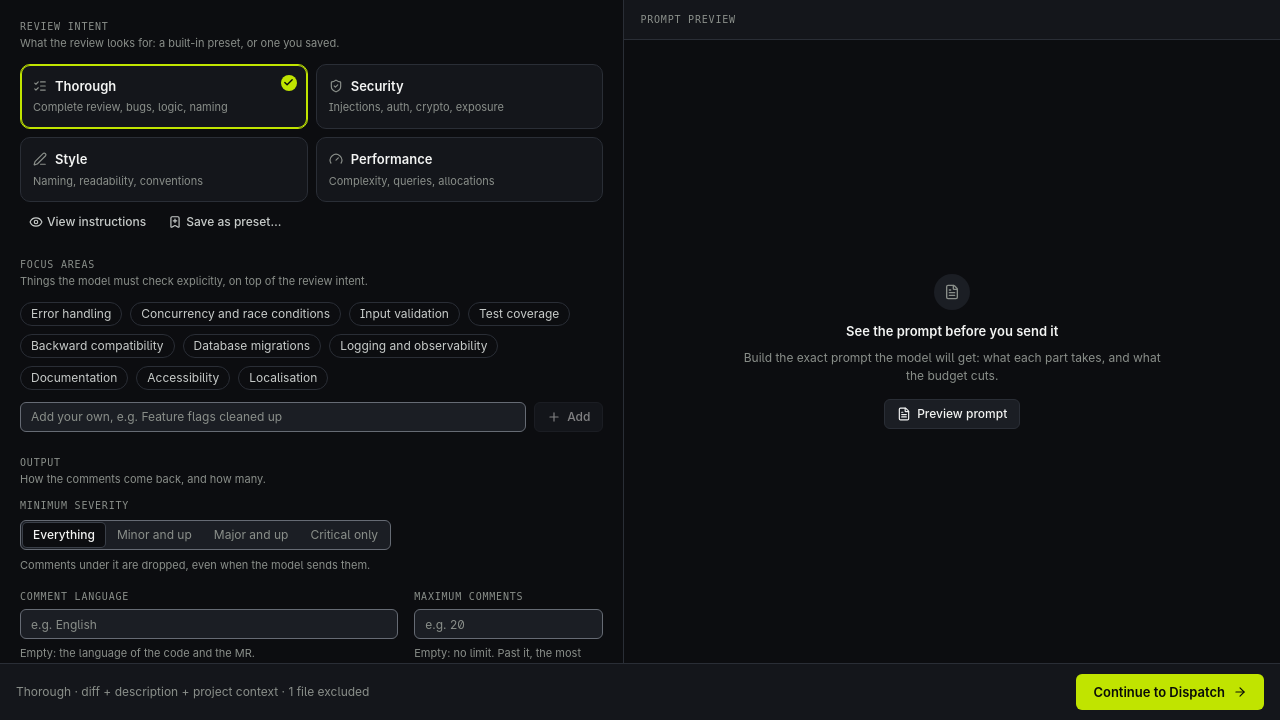
Test case: BriefStage — prompt preview › breaks the prompt down and says what the budget left out
Click the button "Preview prompt" at [952, 414], box [884, 399, 1020, 429]
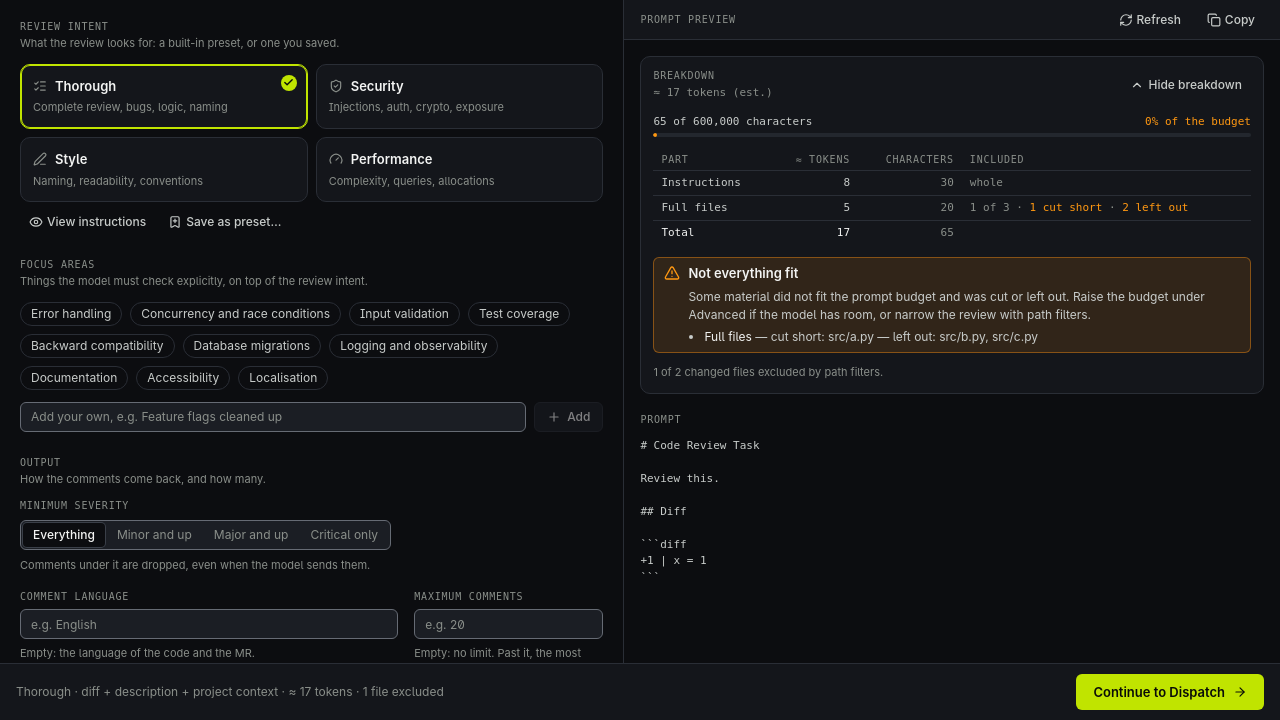
Now the row "Full files 5 20 1 of 3 · 1 cut short · 2 left out" is shown, box [653, 196, 1251, 221]
Now the text "did not fit the prompt budget" is shown, box [688, 289, 1205, 322]
Now the text "1 of 2 changed files excluded by path filters." is shown, box [653, 365, 883, 379]
